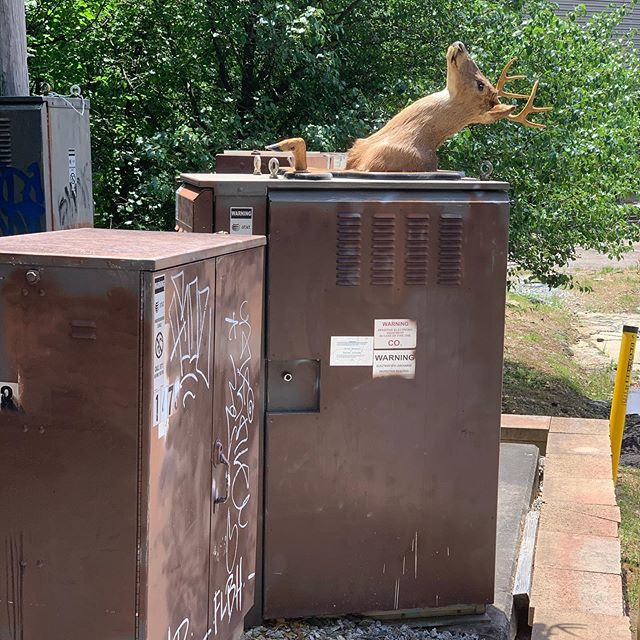animal: (308, 46, 550, 172)
graffiti: (147, 268, 262, 627)
tree: (82, 1, 620, 248)
